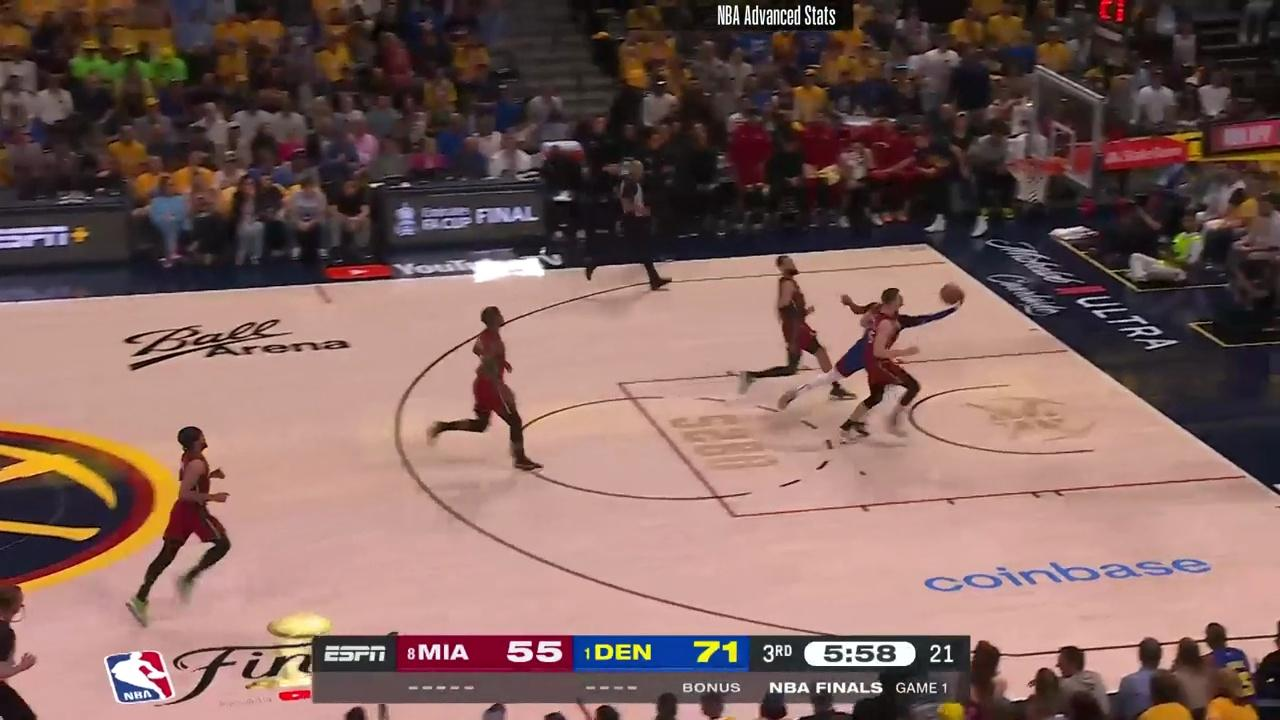Backboard: (1028, 77, 1107, 188)
Ball: (940, 285, 962, 305)
Basket: (1010, 151, 1056, 202)
Person: (125, 423, 240, 632), (427, 308, 551, 478), (745, 254, 846, 415), (829, 286, 924, 452)
Referee: (597, 152, 671, 296), (1, 573, 41, 720)
Shot Clock: (1084, 3, 1132, 46)
